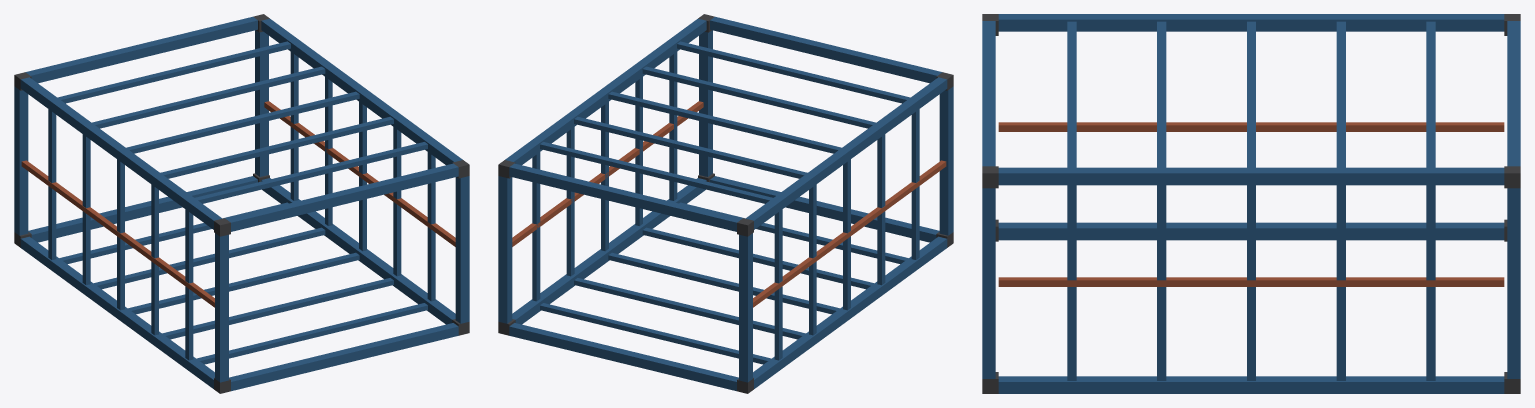
Rendered from pax100_frame.obj.
3 views of the same model, side by side, from view 1: azimuth 30°, elevation 25°; view 2: azimuth 150°, elevation 25°; view 3: azimuth 270°, elevation 25° (orthographic). The views are drawn at different scales.
Parts seen in each view (by area): view 1: pax100_frame; view 2: pax100_frame; view 3: pax100_frame.
Part boxes in pixels (x1,y1,x2,y2): pax100_frame: (14,14,469,393); pax100_frame: (498,14,953,393); pax100_frame: (982,14,1520,393).
Bounding box in the file's own units: 7.32 × 4.73 × 10.45.
